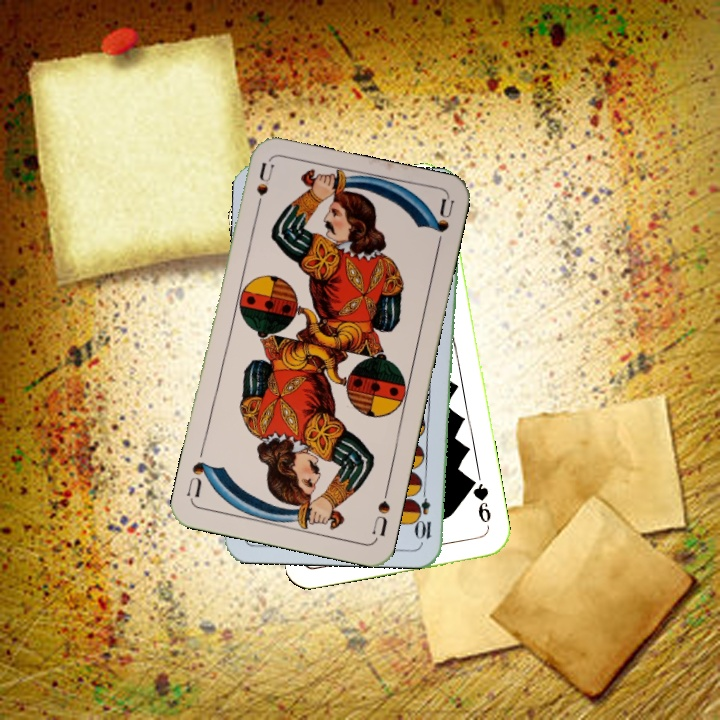E10: (415, 483, 434, 542)
G9: (466, 474, 494, 531)
SU: (251, 159, 277, 219), (368, 483, 393, 541)
